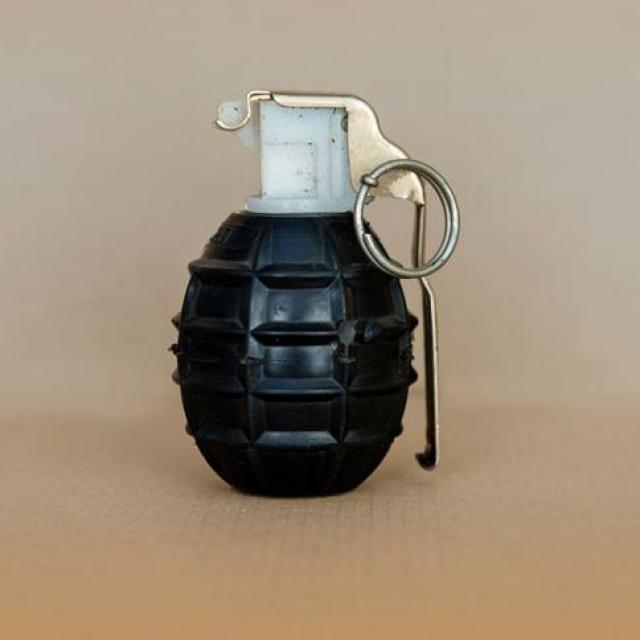grenade: (168, 91, 460, 499)
